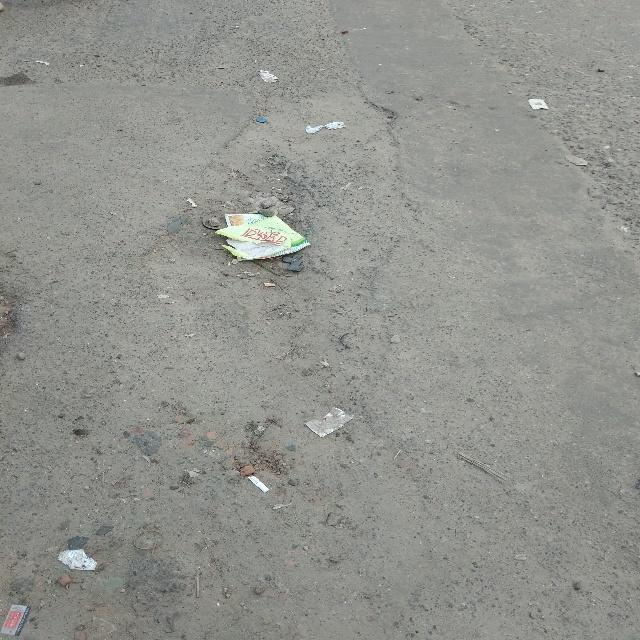Surface Erosion: (3, 21, 640, 640)
